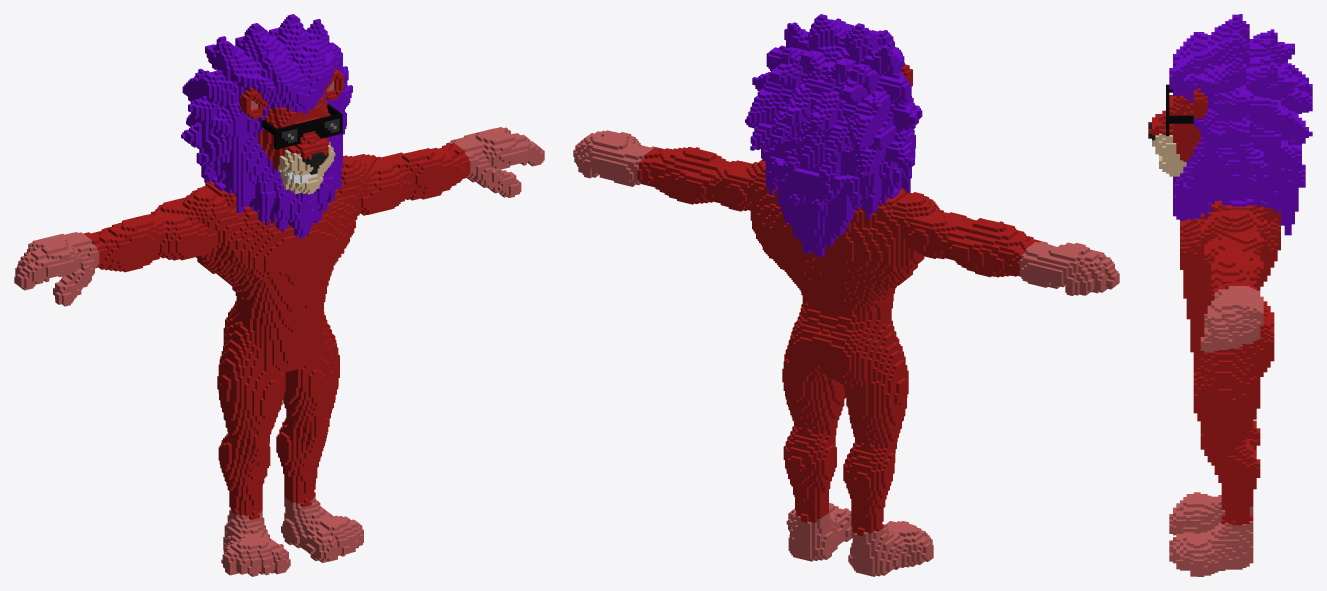
File: 515-BUOkgIGu.glb
The picture shows the model from 3 angles, left to right: view 1: azimuth 30°, elevation 25°; view 2: azimuth 150°, elevation 25°; view 3: azimuth 270°, elevation 25°; orthographic projection. The views are drawn at different scales.
Parts seen in each view (by area): view 1: grin; view 2: grin; view 3: grin.
Part boxes in pixels (x1,y1,x2,y2): grin: [14, 14, 544, 576]; grin: [573, 14, 1119, 576]; grin: [1148, 14, 1312, 576].
Size of the model in its own units: 17.2 by 16.5 by 4.7.
4 materials, 4 textured.
